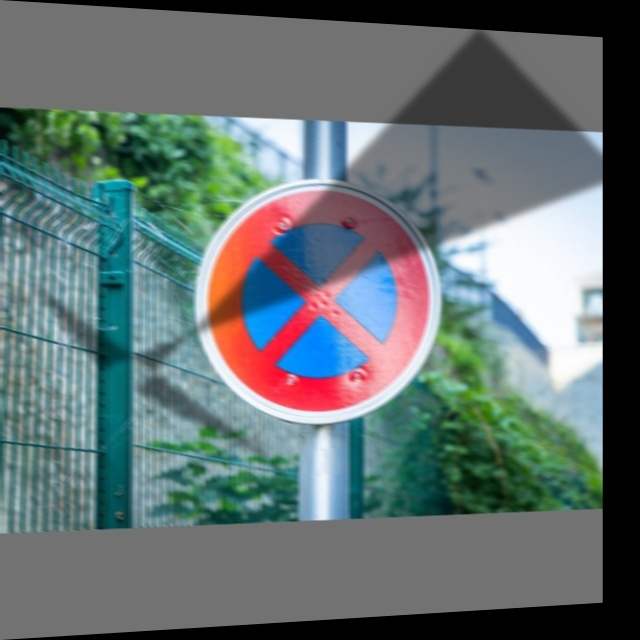No_Stopping_or_Standing: (199, 192, 441, 414)
